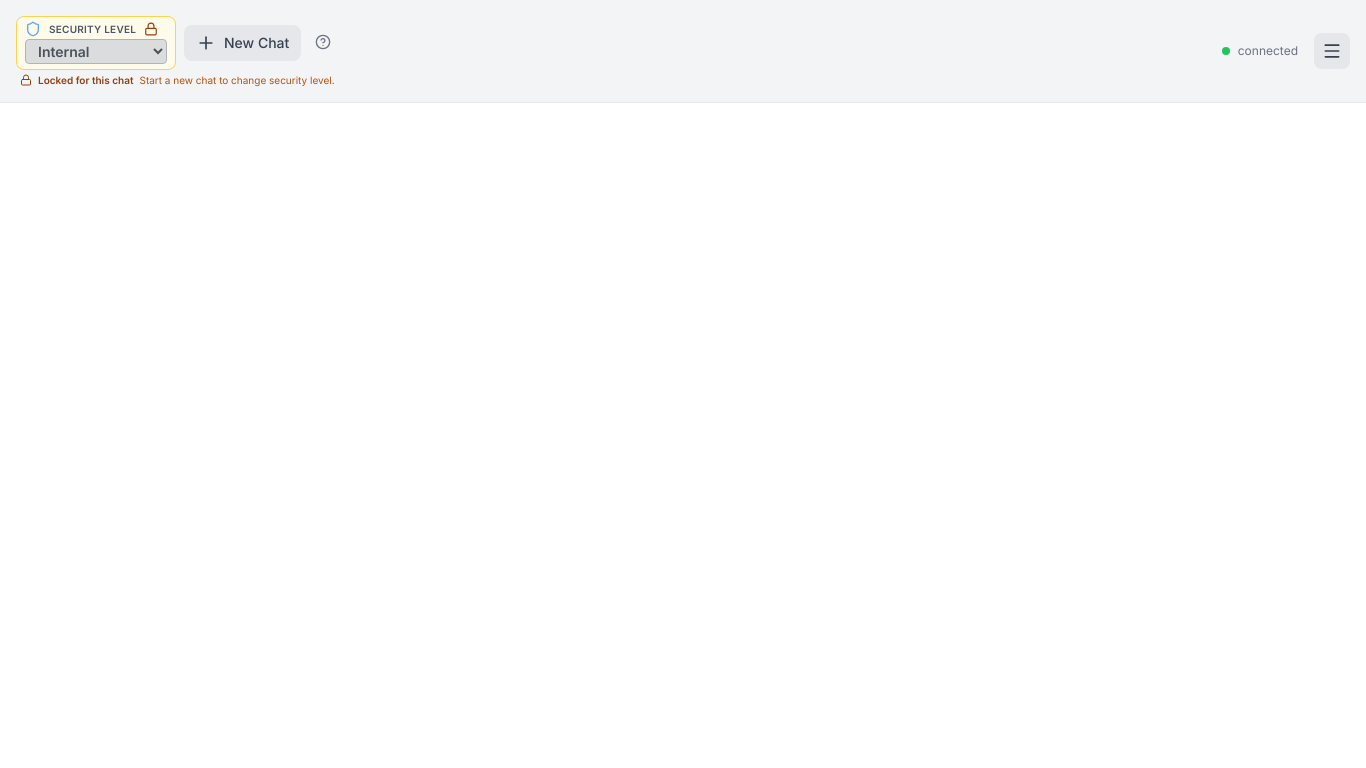
Scenario: header compliance selector lock (issue #1044) › locks a begun conversation to its recorded level, not the global value
Click the button titled "Menu": coordinates (1332, 51) 1314,33 -> 1350,69
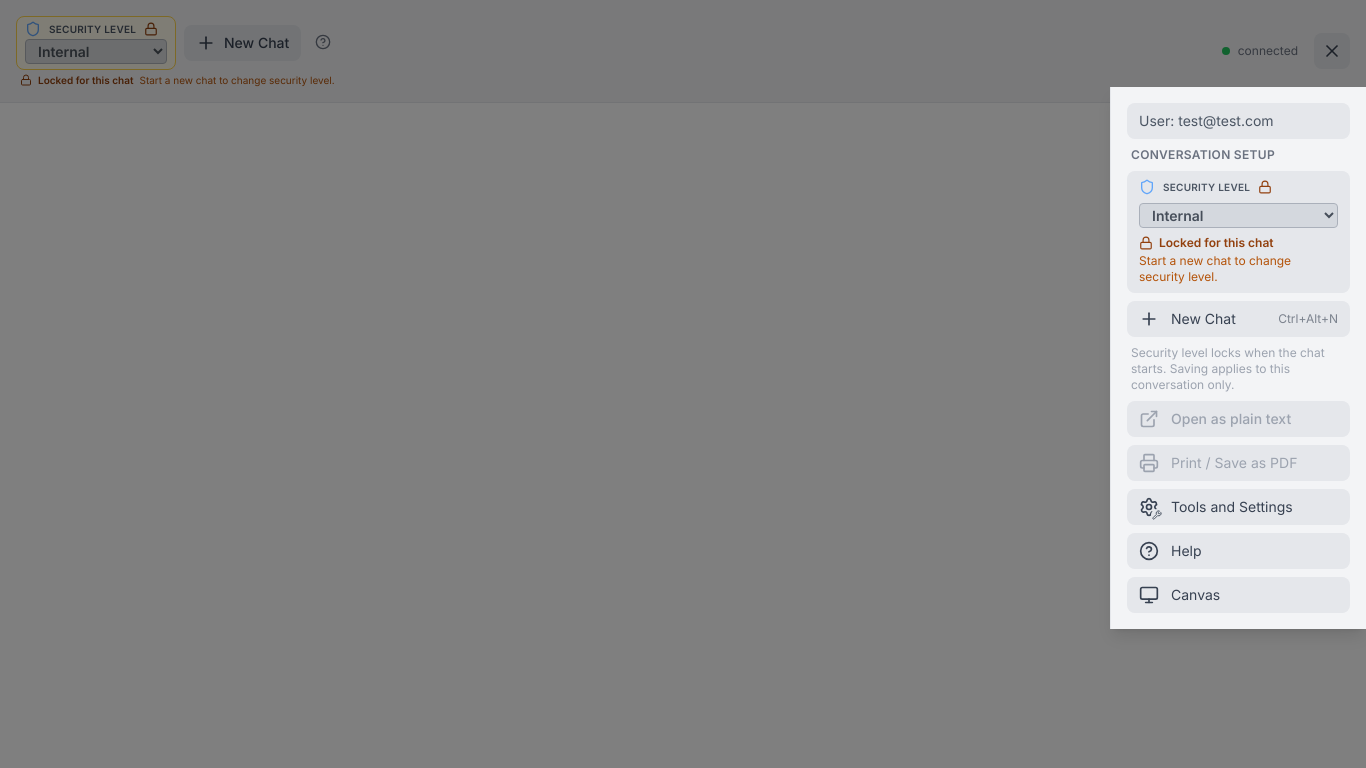
Expected: the dropdown labelled "Security level" is disabled, 1139,203 -> 1338,228
Expected: the dropdown labelled "Security level" shows "Internal", 1139,203 -> 1338,228
Expected: the text "Locked for this chat" is shown 2 times, 38,74 -> 134,86; 1159,235 -> 1274,251
